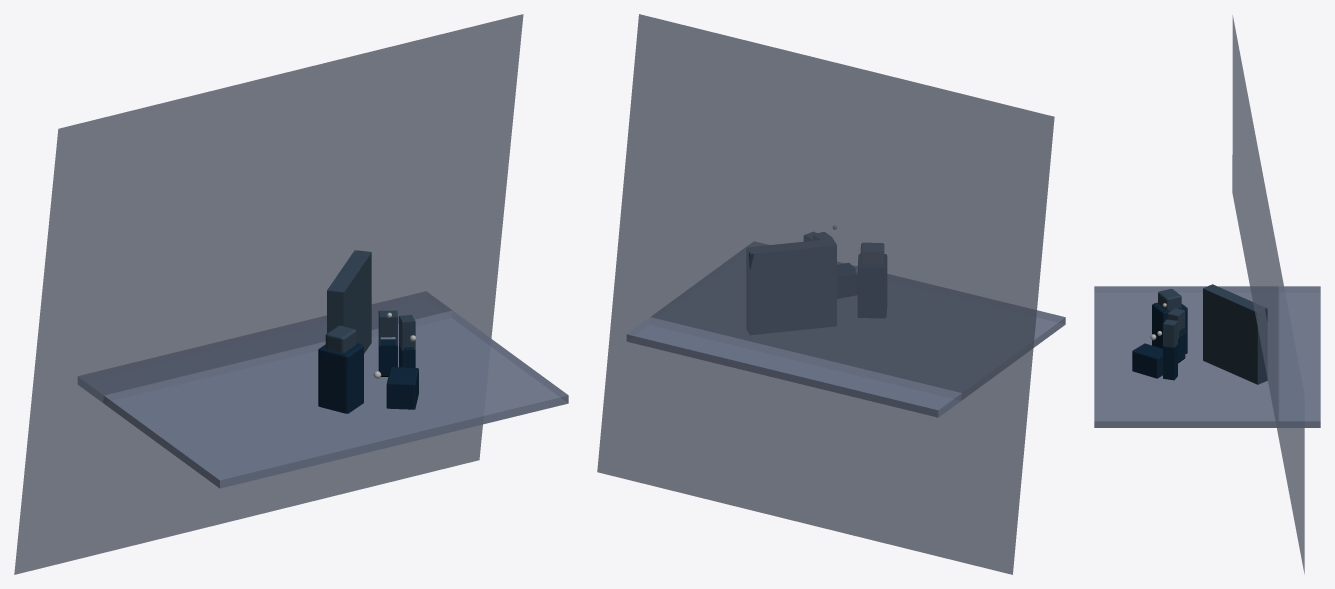
Rendered from SceneSN.gltf.
3 renders of one model, left to right at view 1: azimuth 30°, elevation 25°; view 2: azimuth 150°, elevation 25°; view 3: azimuth 270°, elevation 25°, orthographic. The views are drawn at different scales.
Parts seen in each view (by area): view 1: 平面, object_3, object_6, object_4, object_5, object_1; view 2: 平面, object_3, object_6, object_4, object_5; view 3: object_3, 平面, object_6, object_5, object_4, object_35, object_1, object_37, object_2.
Part boxes in pixels (<box>): 平面: <box>14,14,523,574</box>; object_3: <box>78,292,568,488</box>; object_6: <box>327,250,371,353</box>; object_4: <box>318,343,363,413</box>; object_5: <box>386,367,418,409</box>; object_1: <box>325,325,356,352</box>; 平面: <box>597,14,1054,574</box>; object_3: <box>626,242,1065,417</box>; object_6: <box>746,239,836,334</box>; object_4: <box>858,254,886,317</box>; object_5: <box>837,263,857,298</box>; object_3: <box>1094,286,1320,427</box>; 平面: <box>1232,15,1304,574</box>; object_6: <box>1203,284,1267,384</box>; object_5: <box>1132,343,1162,378</box>; object_4: <box>1152,302,1187,353</box>; object_35: <box>1163,344,1177,380</box>; object_1: <box>1158,289,1181,310</box>; object_37: <box>1163,319,1177,347</box>; object_2: <box>1167,308,1185,338</box>.
Bounding box in the file's own units: 127 × 125 × 67.09.
